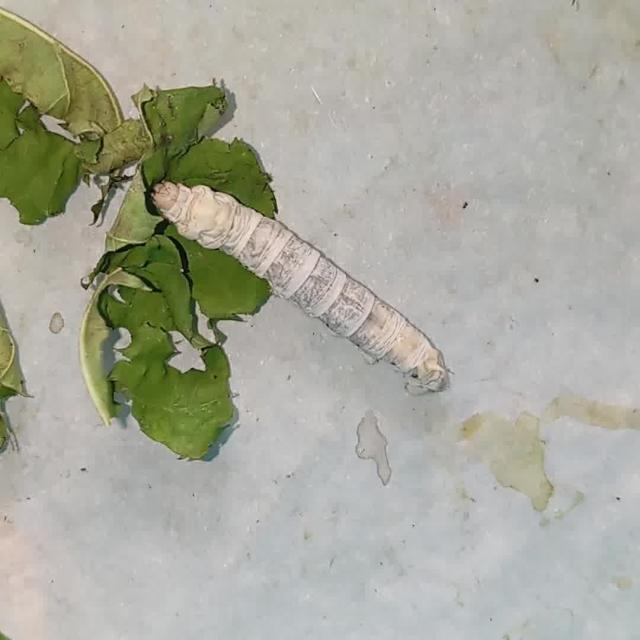Grasserie: (128, 168, 466, 407)
